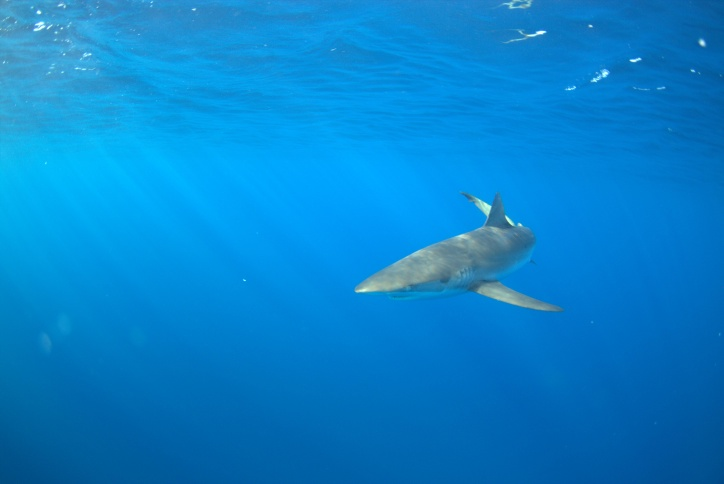Sedoso: (340, 176, 589, 330)
